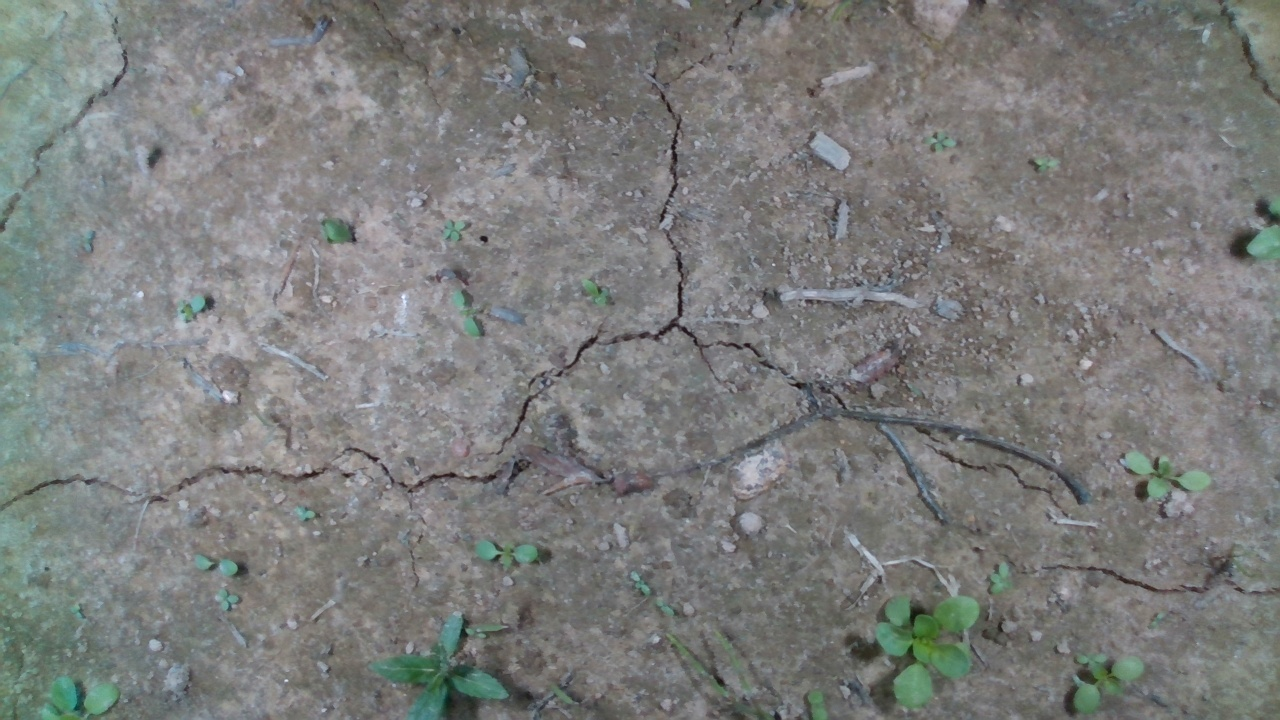weed: (1122, 450, 1213, 499), (445, 290, 499, 339), (466, 534, 552, 564), (166, 295, 230, 329), (573, 277, 626, 311), (984, 558, 1027, 599), (1025, 148, 1093, 170), (435, 218, 478, 246), (919, 132, 974, 153), (189, 554, 241, 576), (212, 590, 241, 611), (290, 506, 318, 522)
